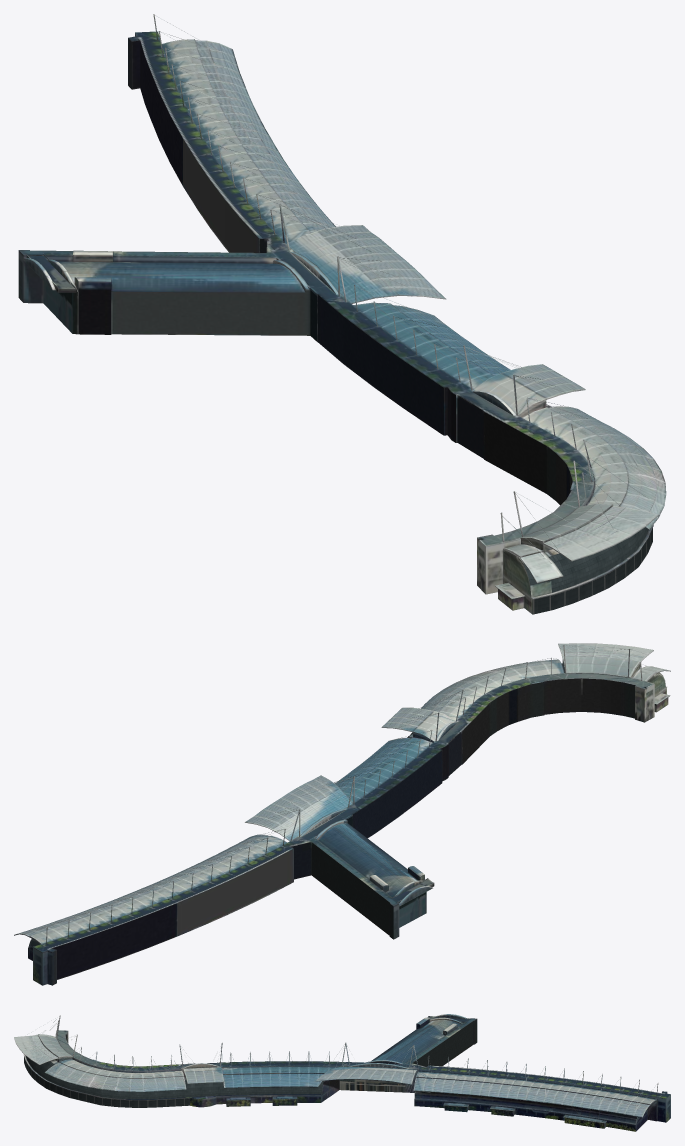
The picture shows the model from 3 angles, top to bottom: view 1: azimuth 30°, elevation 25°; view 2: azimuth 150°, elevation 25°; view 3: azimuth 270°, elevation 25°; orthographic projection. The views are drawn at different scales.
Parts seen in each view (by area): view 1: 1_0.glb; view 2: 1_0.glb; view 3: 1_0.glb.
Part boxes in pixels (left/top/right/bottom): 1_0.glb: left=18, top=14, right=666, bottom=614; 1_0.glb: left=14, top=643, right=670, bottom=985; 1_0.glb: left=14, top=1014, right=670, bottom=1131.
Size of the model in its own units: 198 by 44.88 by 576.
Materials: 2 (2 with a texture image).
